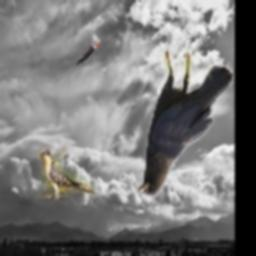Crow: (136, 51, 234, 196)
Cuckoo: (38, 149, 94, 201)
Woodpecker: (75, 41, 99, 66)
